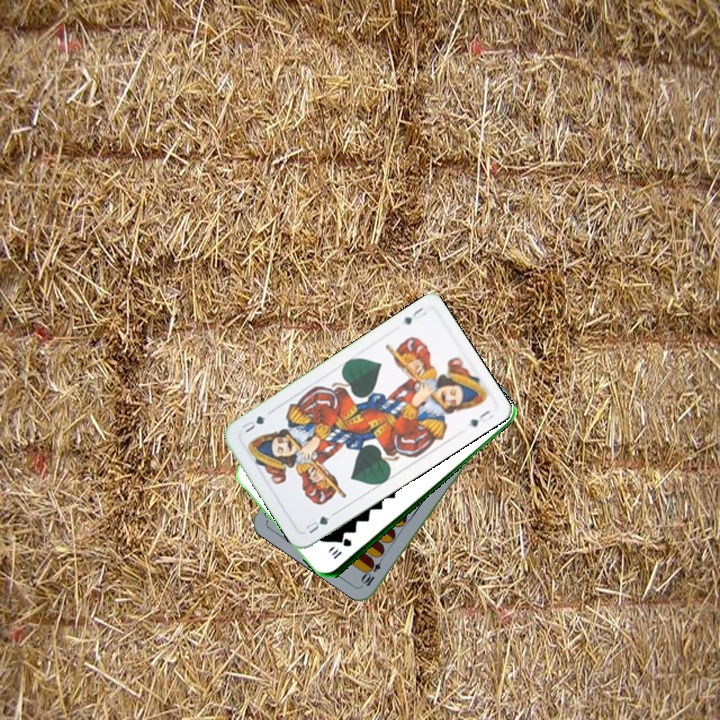E10: (358, 551, 387, 589)
G10: (328, 535, 354, 562)
GU: (302, 512, 332, 536), (399, 303, 429, 327)
